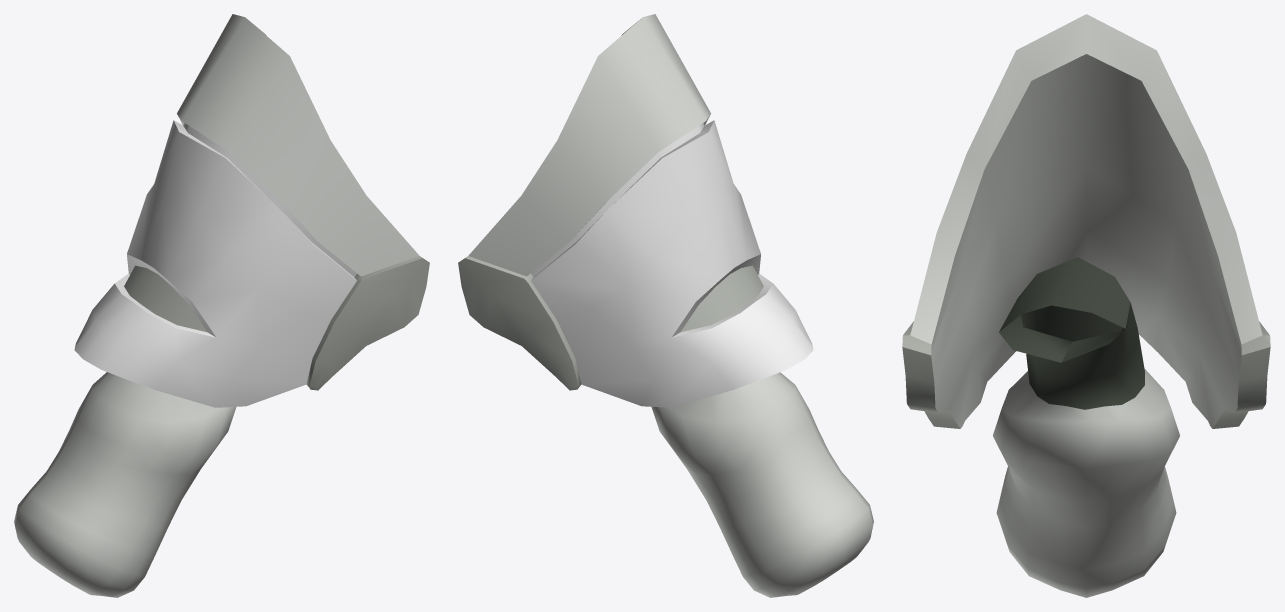
File: ralph_uparm.fbx
3 views of the same model, side by side, from view 1: azimuth 30°, elevation 25°; view 2: azimuth 150°, elevation 25°; view 3: azimuth 270°, elevation 25° (orthographic). The views are drawn at different scales.
Visible parts, largest first — view 1: uparm; view 2: uparm; view 3: uparm.
Part boxes in pixels (x1,y1,x2,y2): uparm: (14, 14, 429, 597); uparm: (458, 14, 873, 597); uparm: (902, 14, 1270, 597).
Size of the model in its own units: 151 by 238 by 120.
